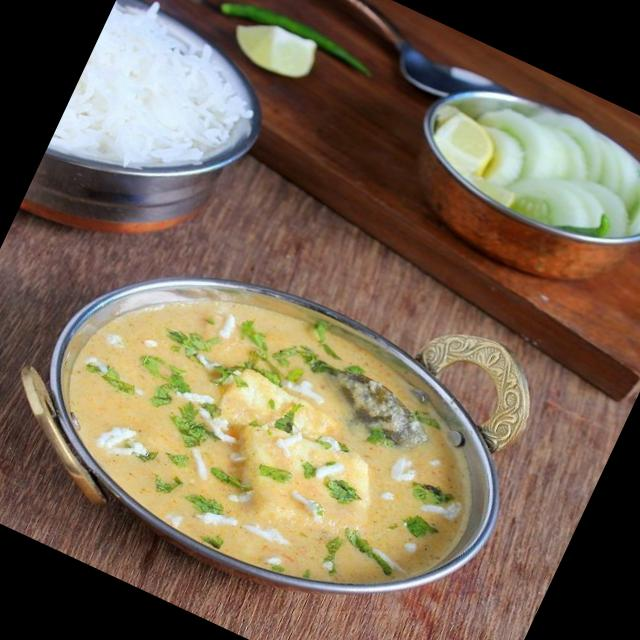ShahiPaneer: (23, 235, 512, 640)
